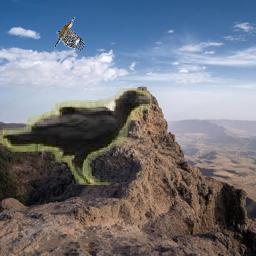Crow: (0, 89, 151, 186)
Woodpecker: (55, 17, 86, 52)
